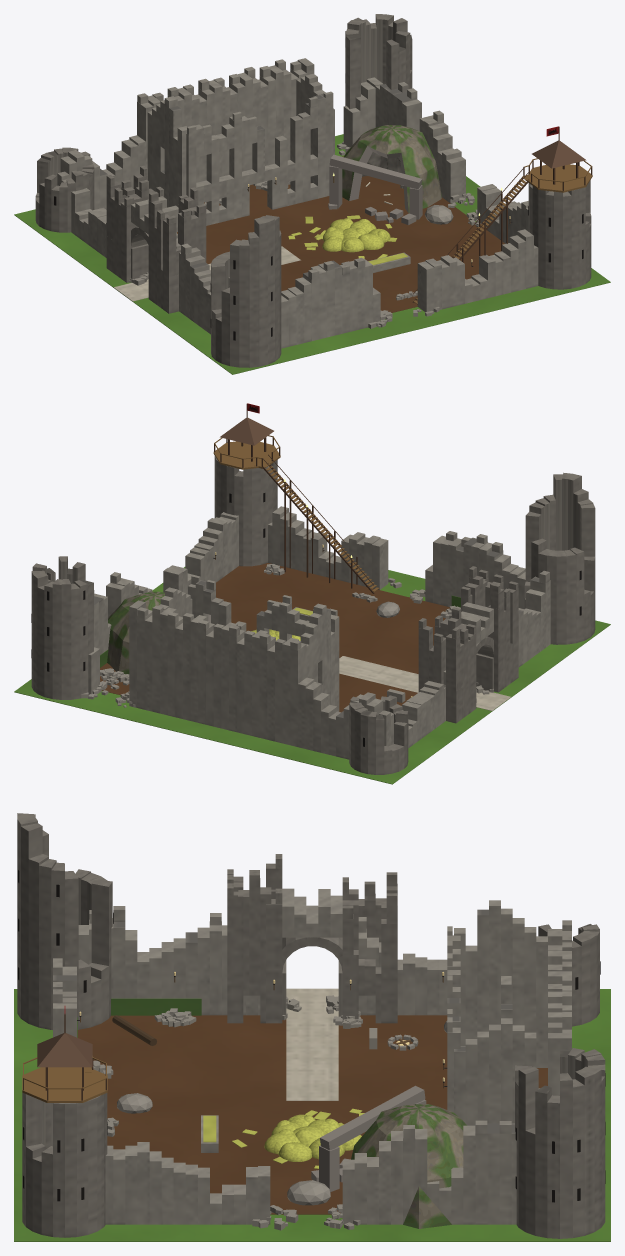
File: draci_farma.glb
3 renders of one model, top to bottom at view 1: azimuth 30°, elevation 25°; view 2: azimuth 150°, elevation 25°; view 3: azimuth 270°, elevation 25°, orthographic. The views are drawn at different scales.
Parts seen in each view (by area): view 1: dum, jeskyne, podlaha, rozhledna, podlaha_kozy; view 2: dum, podlaha, jeskyne, podlaha_kozy, rozhledna; view 3: dum, jeskyne, rozhledna, podlaha.
Part boxes in pixels (x1,y1,x2,y2): dum: (14, 14, 610, 374); jeskyne: (328, 125, 441, 224); podlaha: (413, 164, 592, 304); rozhledna: (523, 126, 592, 192); podlaha_kozy: (412, 168, 529, 302); dum: (14, 456, 610, 784); podlaha: (213, 441, 379, 591); jeskyne: (107, 591, 210, 674); podlaha_kozy: (263, 454, 379, 593); rozhledna: (213, 403, 280, 469); dum: (14, 813, 610, 1241); jeskyne: (311, 1085, 466, 1228); rozhledna: (22, 1006, 107, 1102); podlaha: (22, 1067, 107, 1100).
Size of the model in its own units: 44.4 by 18.08 by 44.4.
4 materials, 3 textured.
